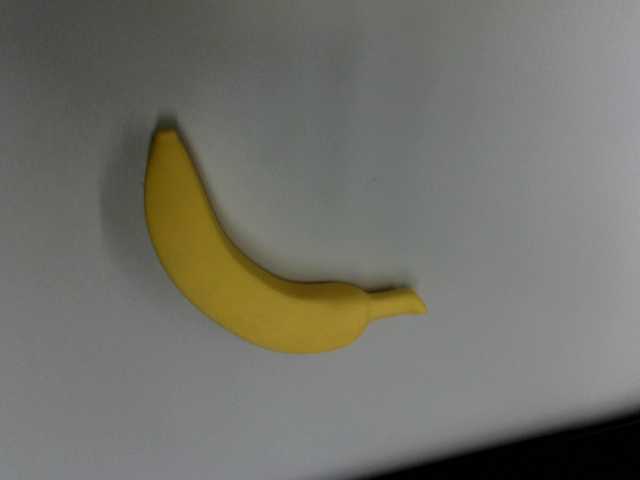banana: (87, 122, 430, 414)
